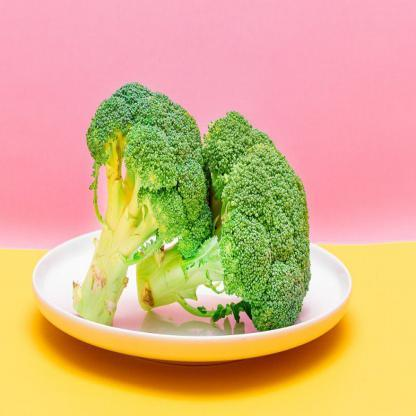broccoli: (70, 82, 312, 340)
